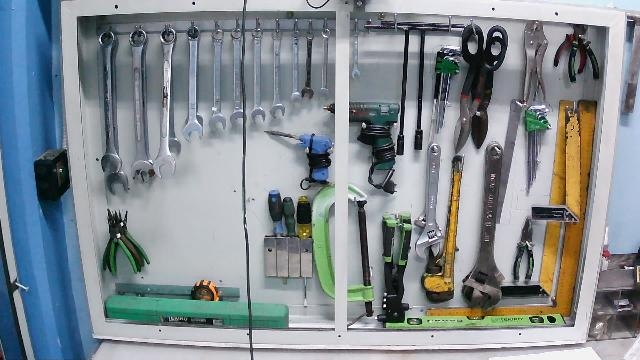kunci_l_bintang: (525, 103, 554, 200)
